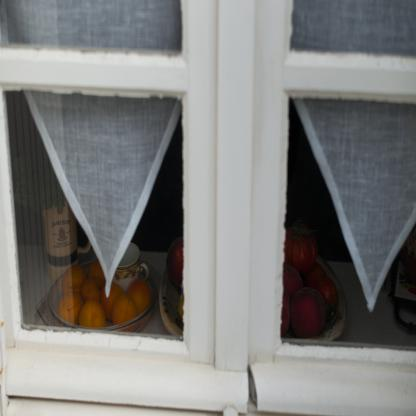Orange: (58, 266, 152, 329)
Tomato: (283, 224, 317, 274)
